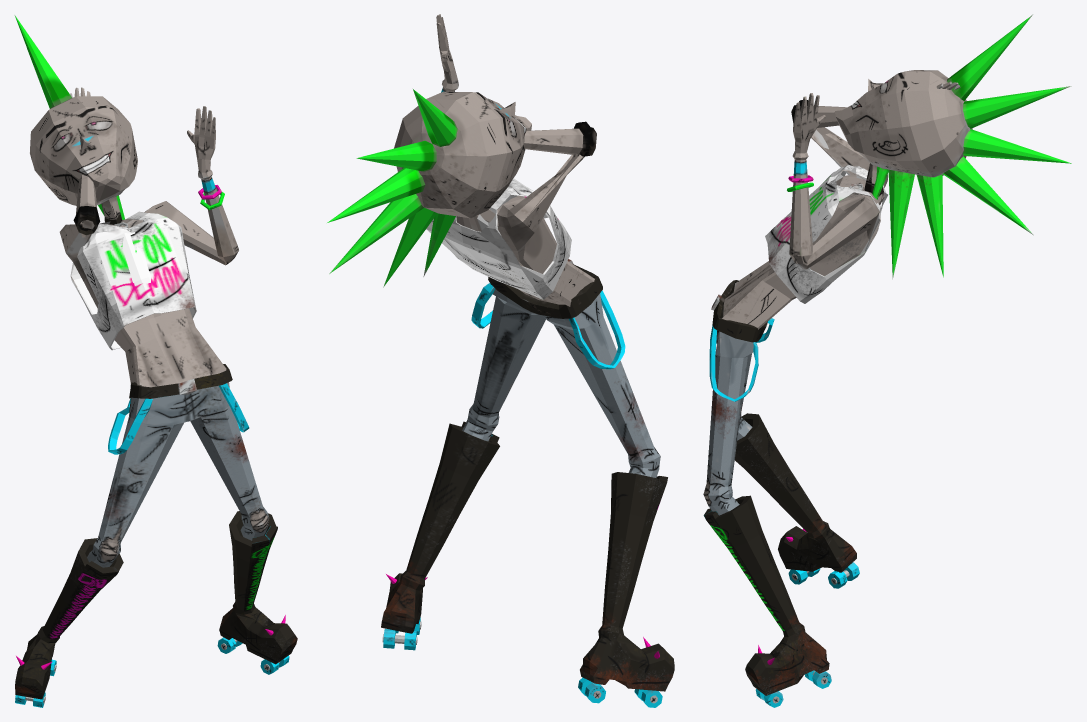
The model's file is punkAnimation_000094.obj.
3 renders of one model, left to right at view 1: azimuth 30°, elevation 25°; view 2: azimuth 150°, elevation 25°; view 3: azimuth 270°, elevation 25°, orthographic. The views are drawn at different scales.
Visible parts, largest first — view 1: Cube.004_Cube.003; view 2: Cube.004_Cube.003; view 3: Cube.004_Cube.003.
Part boxes in pixels (x1,y1,x2,y2): Cube.004_Cube.003: (14, 15, 297, 707); Cube.004_Cube.003: (327, 14, 674, 707); Cube.004_Cube.003: (703, 14, 1071, 707).
Bounding box in the file's own units: 2.91 × 6.28 × 3.39.
